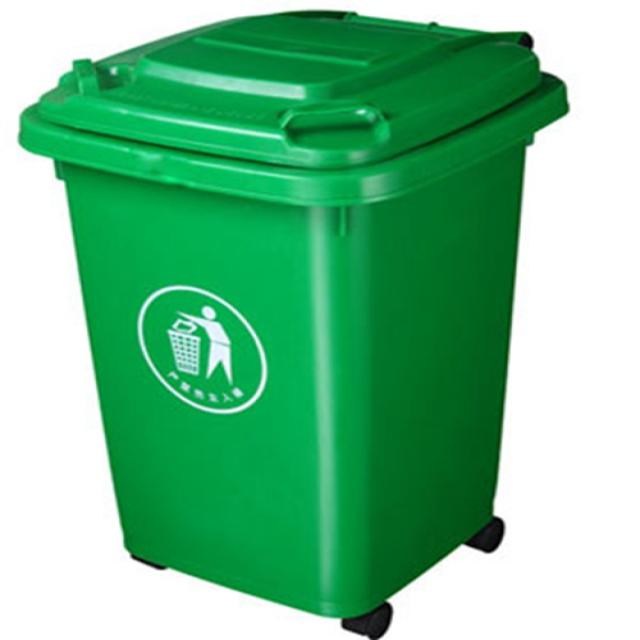garbage_bin: (17, 9, 571, 618)
